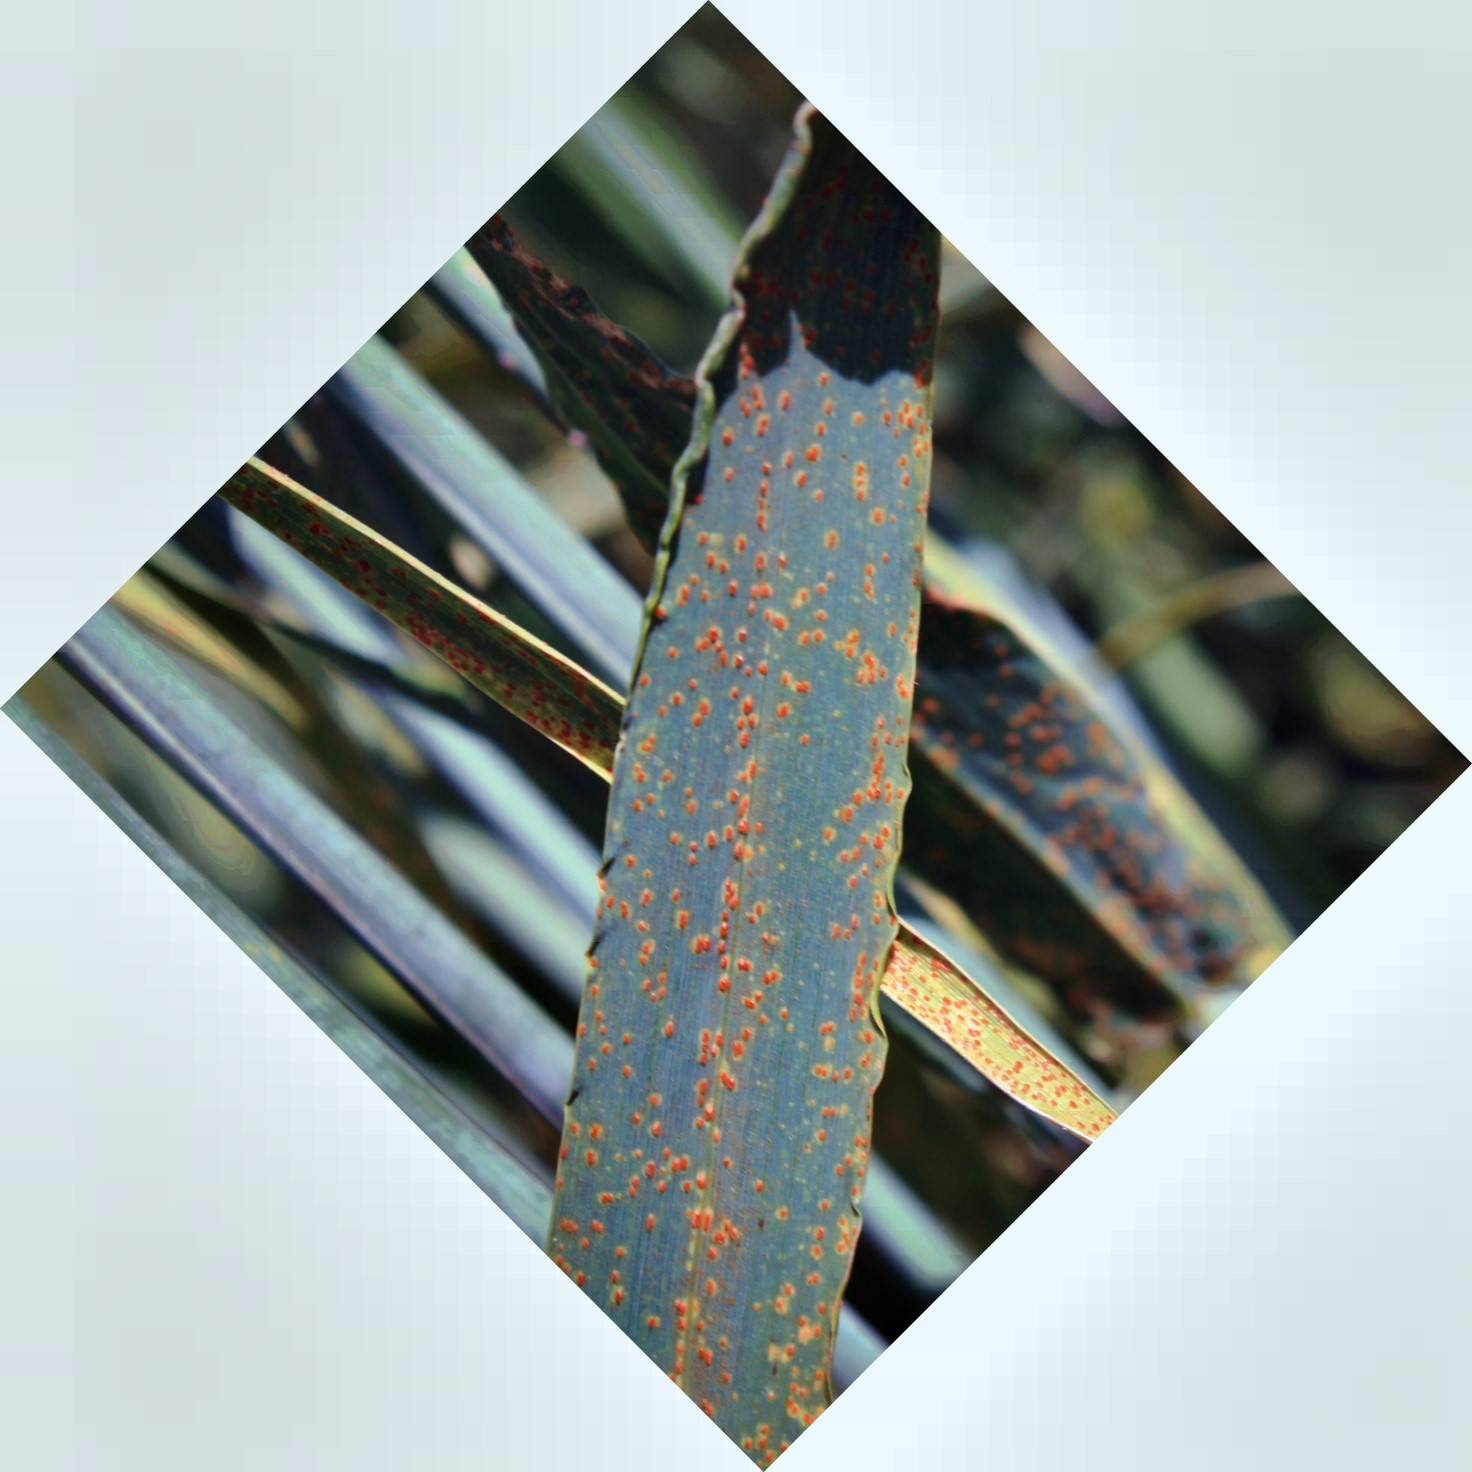Leaf Rust: (569, 284, 945, 1322)
